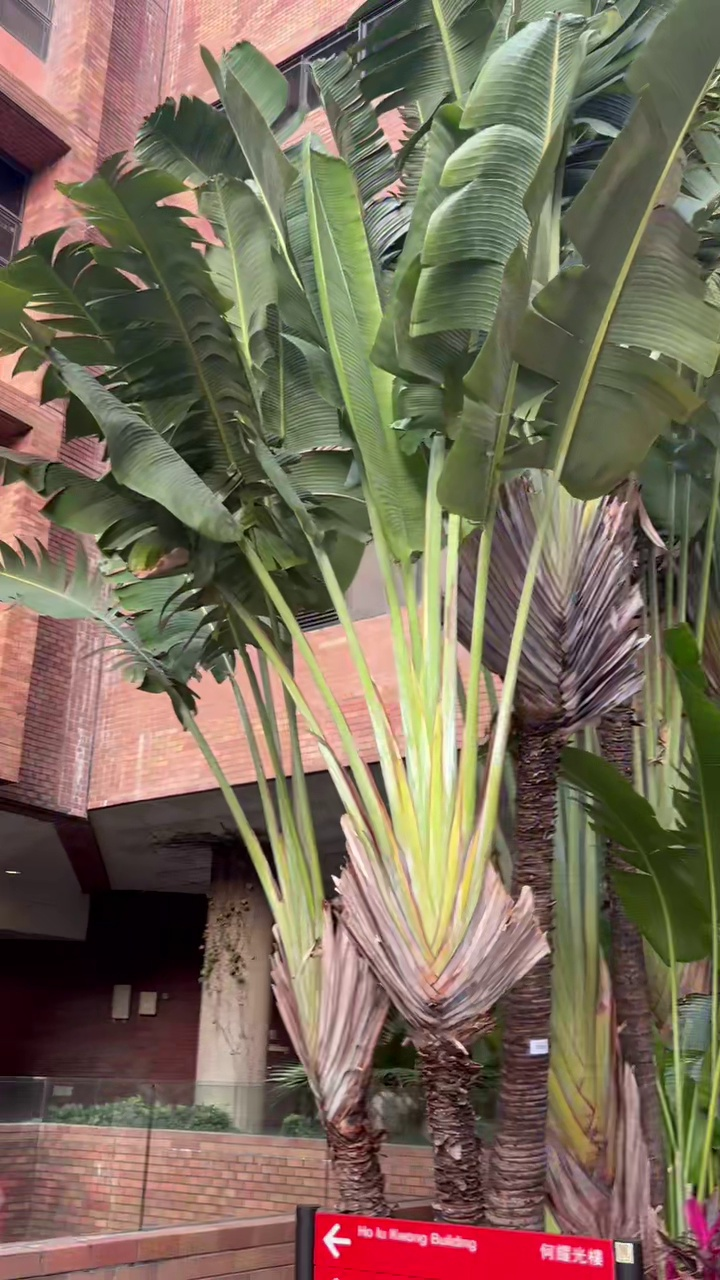Travellers-tree: (0, 0, 719, 1220)
